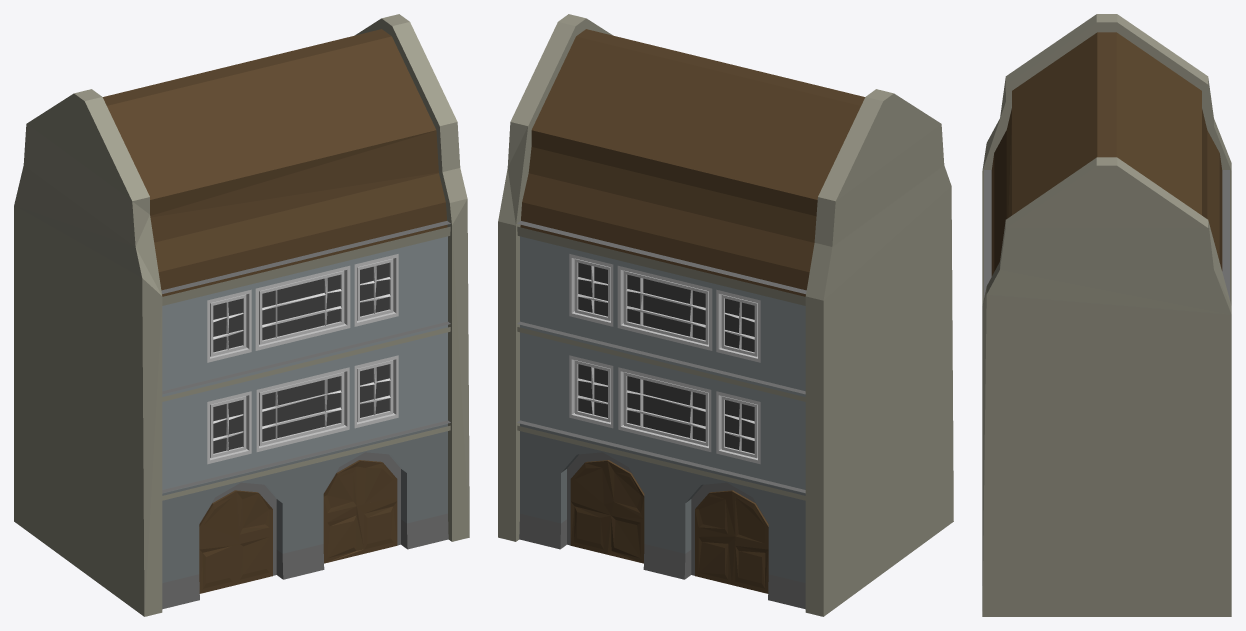
File: b_building2_small.glb
3 renders of one model, left to right at view 1: azimuth 30°, elevation 25°; view 2: azimuth 150°, elevation 25°; view 3: azimuth 270°, elevation 25°, orthographic. The views are drawn at different scales.
Visible parts, largest first — view 1: Building2_Small; view 2: Building2_Small; view 3: Building2_Small.
Part boxes in pixels (x1,y1,x2,y2): Building2_Small: [14, 14, 469, 616]; Building2_Small: [498, 14, 953, 616]; Building2_Small: [982, 14, 1231, 616].
Size of the model in its own units: 3.58 by 4.97 by 2.49.
